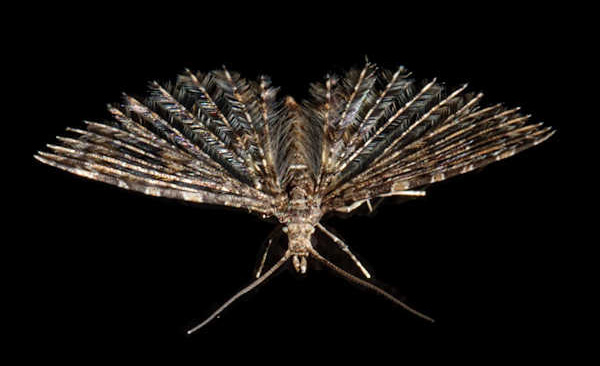Alucitidae: (30, 37, 558, 336)
moth: (32, 39, 560, 338)
